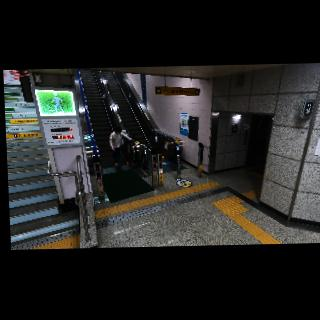normal: (108, 127, 136, 170)
